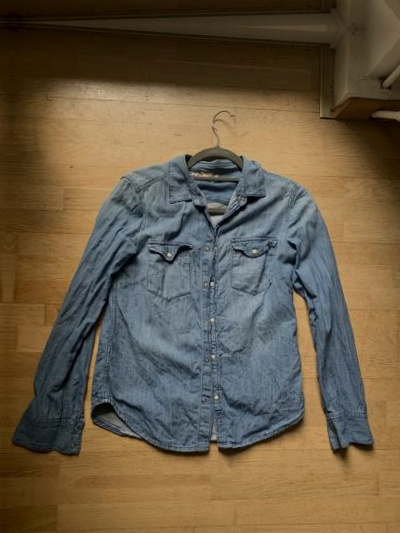Blazer: (12, 108, 400, 485), (0, 100, 3, 477)
